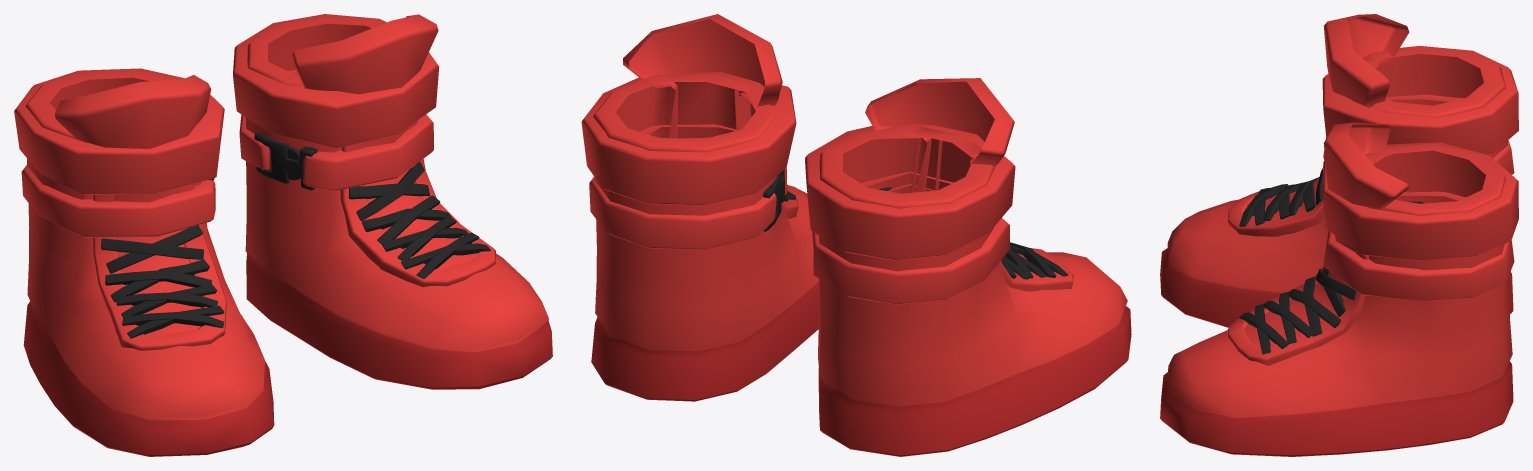
Rendered from Shoe_Sneaker_008.glb.
The picture shows the model from 3 angles, left to right: view 1: azimuth 30°, elevation 25°; view 2: azimuth 150°, elevation 25°; view 3: azimuth 270°, elevation 25°; orthographic projection. The views are drawn at different scales.
Visible parts, largest first — view 1: Shoe_Sneaker_008; view 2: Shoe_Sneaker_008; view 3: Shoe_Sneaker_008.
Boxes of the visible parts, left/top/right/bottom form: Shoe_Sneaker_008: left=14, top=14, right=552, bottom=456; Shoe_Sneaker_008: left=581, top=14, right=1131, bottom=456; Shoe_Sneaker_008: left=1160, top=14, right=1518, bottom=456.
Bounding box in the file's own units: 0.4348 × 0.2832 × 0.324.
Materials: 1 (1 with a texture image).
